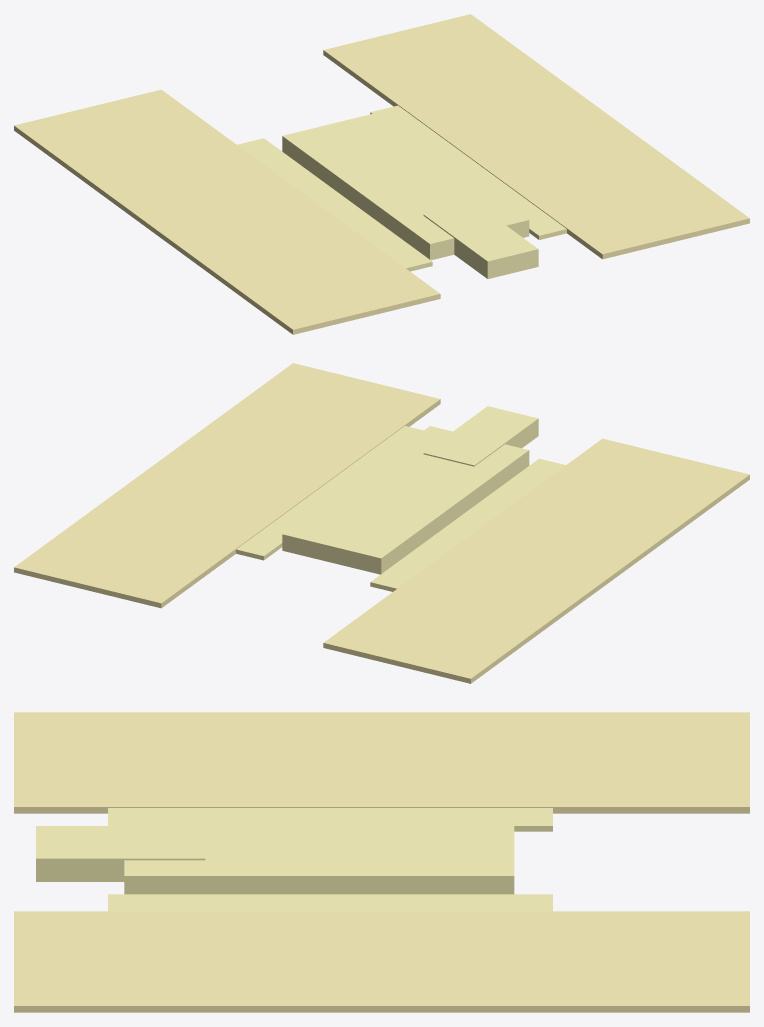
Rendered from road_roundabout_splitter_island.glb.
The picture shows the model from 3 angles, top to bottom: view 1: azimuth 30°, elevation 25°; view 2: azimuth 150°, elevation 25°; view 3: azimuth 270°, elevation 25°; orthographic projection. The views are drawn at different scales.
Visible parts, largest first — view 1: entry_lane_left, entry_lane_right, splitter_island, splitter_nose, apron_left, apron_right; view 2: entry_lane_left, entry_lane_right, splitter_island, apron_left, splitter_nose, apron_right; view 3: entry_lane_right, entry_lane_left, splitter_island, apron_right, splitter_nose, apron_left.
Part boxes in pixels (<box>): entry_lane_left: <box>14,89,440,334</box>; entry_lane_right: <box>323,14,749,259</box>; splitter_island: <box>282,112,529,260</box>; splitter_nose: <box>423,202,538,278</box>; apron_left: <box>237,138,432,271</box>; apron_right: <box>370,105,566,239</box>; entry_lane_left: <box>323,438,749,683</box>; entry_lane_right: <box>14,363,440,608</box>; splitter_island: <box>282,426,529,574</box>; apron_left: <box>370,458,565,591</box>; splitter_nose: <box>423,406,538,466</box>; apron_right: <box>236,426,423,560</box>; entry_lane_right: <box>14,911,749,1012</box>; entry_lane_left: <box>14,712,749,813</box>; splitter_island: <box>124,812,514,894</box>; apron_right: <box>108,894,552,911</box>; splitter_nose: <box>36,826,205,881</box>; apron_left: <box>108,808,552,831</box>.
Size of the model in its own units: 3.78 by 0.14 by 4.
